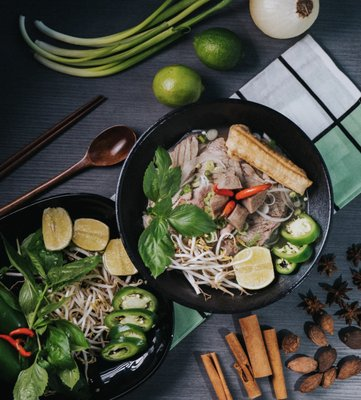salad: (1, 124, 137, 217), (0, 99, 121, 200), (1, 95, 107, 179)
sushi: (115, 95, 347, 318)
